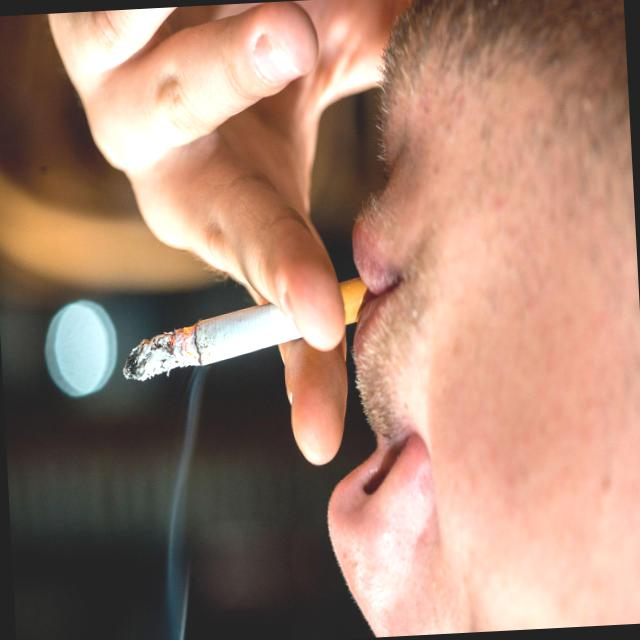smoke: (109, 254, 398, 403)
